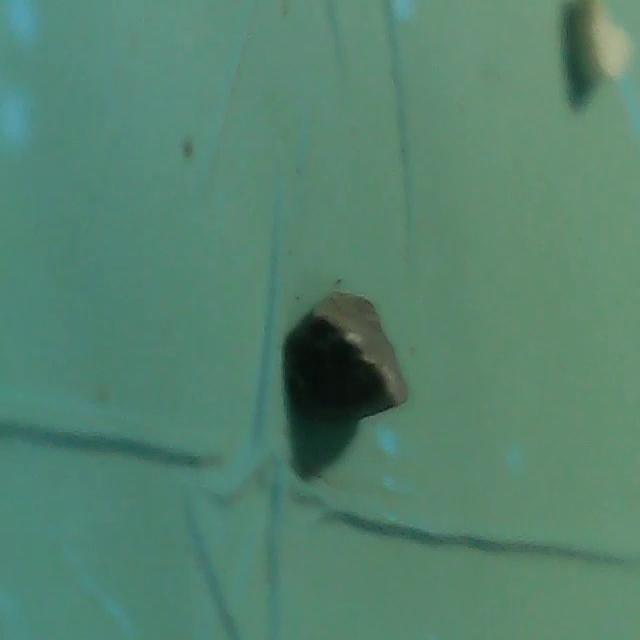rock: (279, 281, 423, 434)
